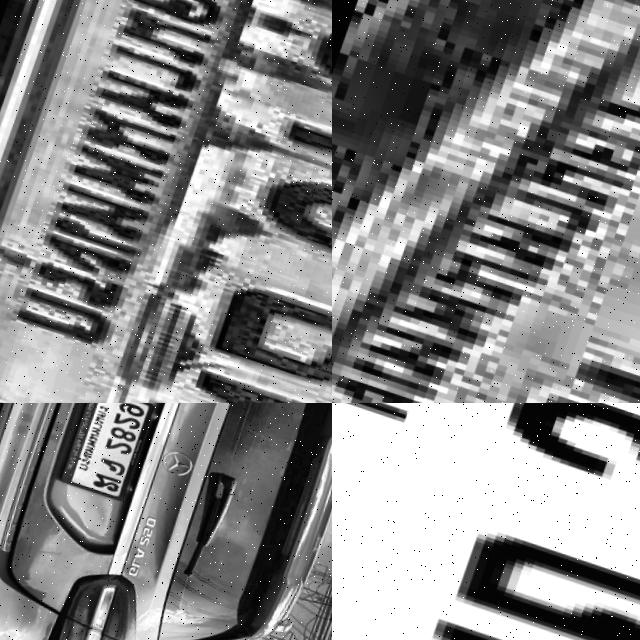license-plate: (0, 0, 332, 403), (332, 0, 640, 403), (332, 403, 640, 640), (63, 403, 166, 499)
